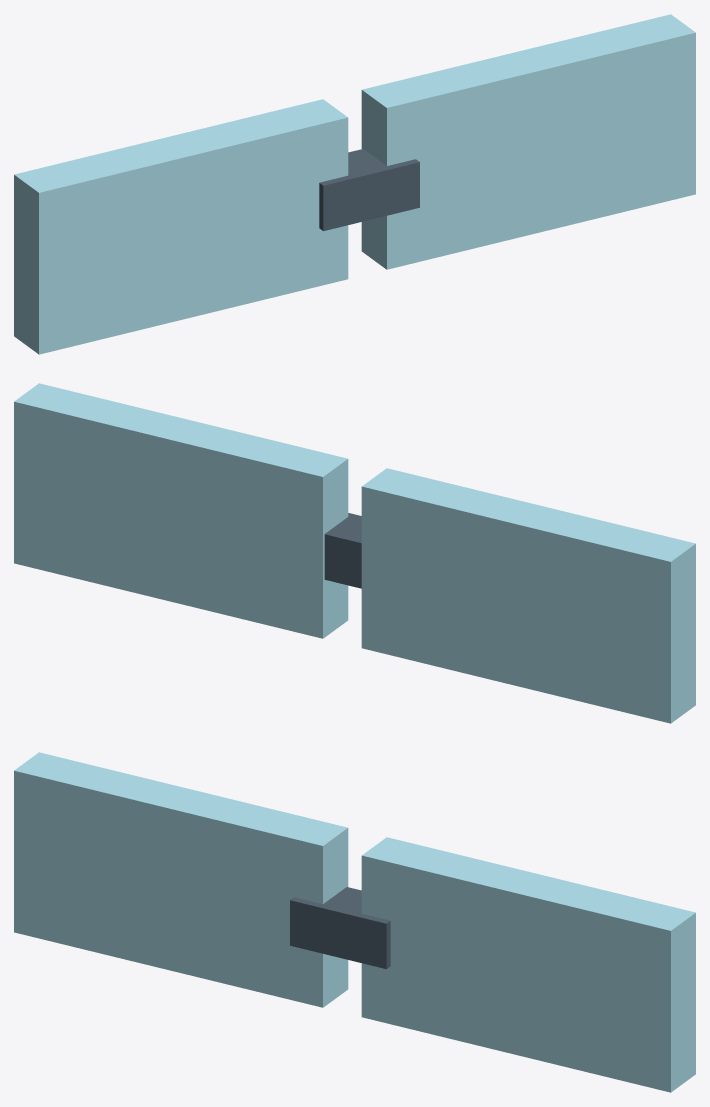
File: glasses_lod0.glb
The picture shows the model from 3 angles, top to bottom: view 1: azimuth 30°, elevation 25°; view 2: azimuth 150°, elevation 25°; view 3: azimuth 330°, elevation 25°; orthographic projection.
Parts seen in each view (by area): view 1: lens-left, lens-right, bridge; view 2: lens-left, lens-right, bridge; view 3: lens-right, lens-left, bridge.
Boxes of the visible parts, x1,y1,x2,y2 form: lens-left: [14, 99, 348, 354]; lens-right: [361, 14, 695, 269]; bridge: [319, 149, 419, 231]; lens-left: [361, 468, 695, 723]; lens-right: [14, 383, 348, 638]; bridge: [324, 513, 361, 588]; lens-right: [361, 837, 695, 1092]; lens-left: [14, 752, 348, 1007]; bridge: [290, 887, 390, 969].
Bounding box in the file's own units: 0.68 × 0.16 × 0.0525.
